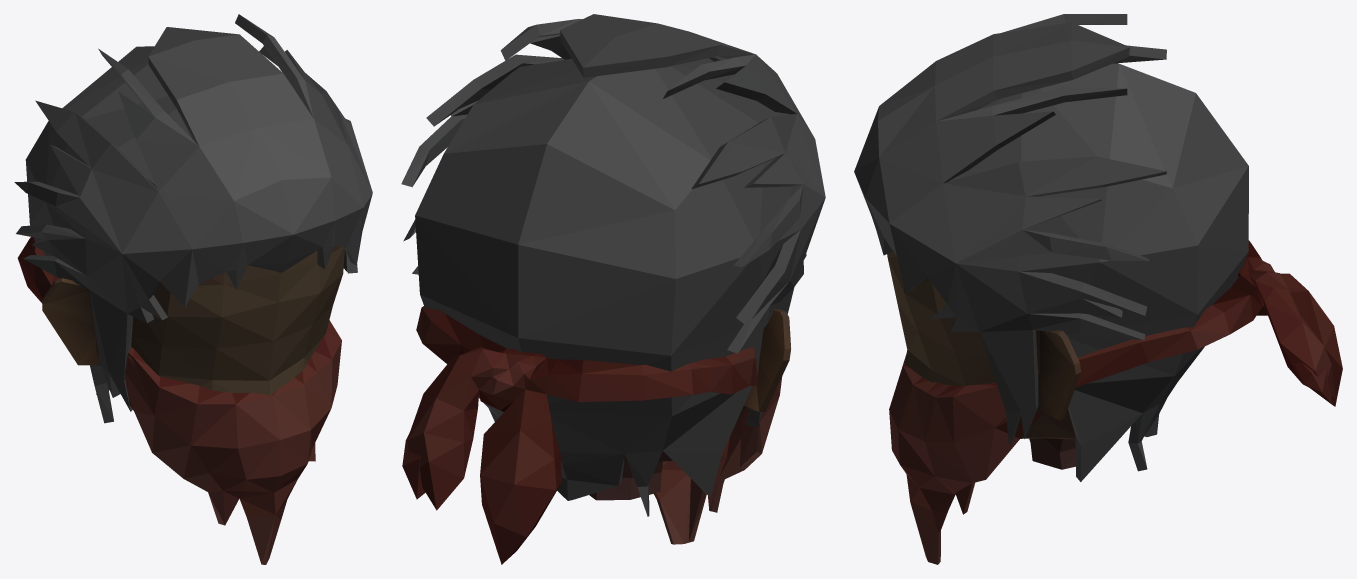
File: helm_darkskin_spike_gray_bandana.fbx
3 views of the same model, side by side, from view 1: azimuth 30°, elevation 25°; view 2: azimuth 150°, elevation 25°; view 3: azimuth 270°, elevation 25° (orthographic). The views are drawn at different scales.
Visible parts, largest first — view 1: helm_darkskin_spike_black_bandana; view 2: helm_darkskin_spike_black_bandana; view 3: helm_darkskin_spike_black_bandana.
Boxes of the visible parts, x1,y1,x2,y2 form: helm_darkskin_spike_black_bandana: (14, 14, 372, 564); helm_darkskin_spike_black_bandana: (401, 14, 825, 564); helm_darkskin_spike_black_bandana: (854, 14, 1342, 564).
Bounding box in the file's own units: 1.13 × 1.71 × 1.46.
